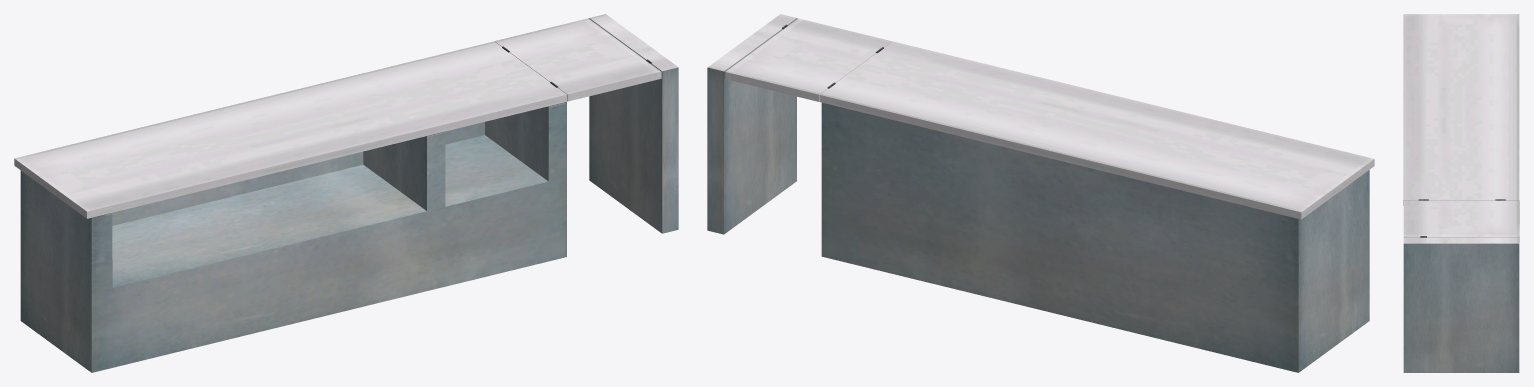
File: frn_bar_piece_straight_s2_l0.fbx
3 renders of one model, left to right at view 1: azimuth 30°, elevation 25°; view 2: azimuth 150°, elevation 25°; view 3: azimuth 270°, elevation 25°, orthographic. The views are drawn at different scales.
Parts seen in each view (by area): view 1: mesh_node; view 2: mesh_node; view 3: mesh_node.
Boxes of the visible parts, bbox=[...] form: mesh_node: bbox=[14, 14, 678, 372]; mesh_node: bbox=[707, 14, 1374, 372]; mesh_node: bbox=[1403, 14, 1519, 372].
Bounding box in the file's own units: 4.38 × 1.16 × 0.9349.
